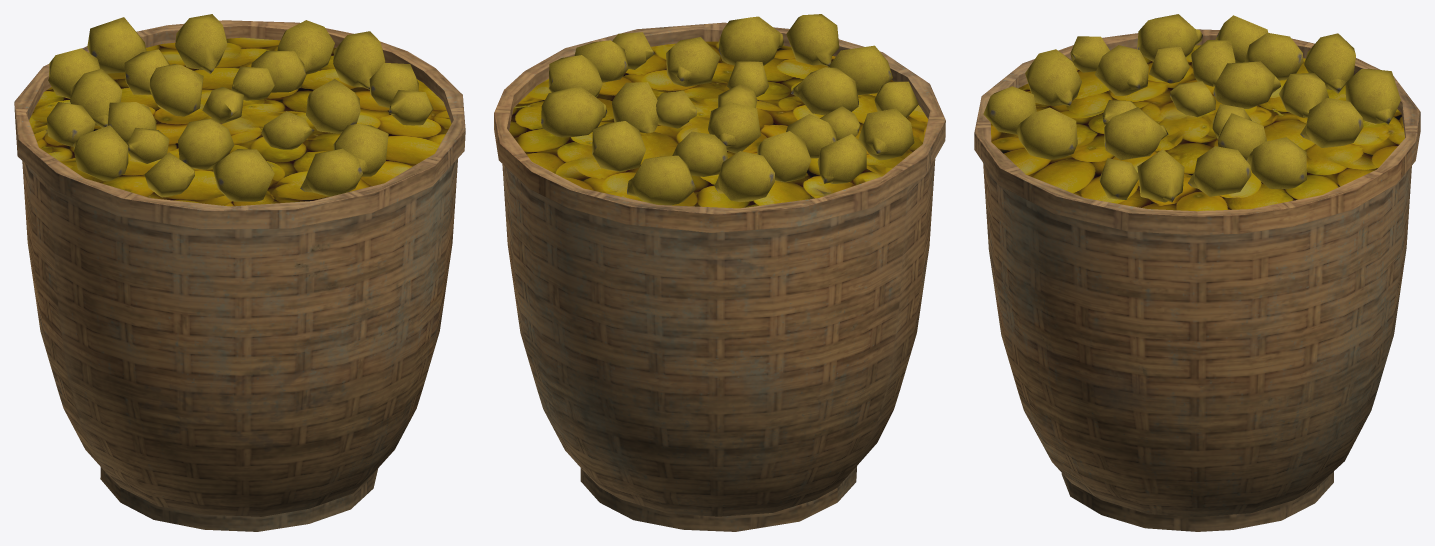
The model's file is SM_basket_lemons_01.fbx.
The picture shows the model from 3 angles, left to right: view 1: azimuth 30°, elevation 25°; view 2: azimuth 150°, elevation 25°; view 3: azimuth 270°, elevation 25°; orthographic projection.
Parts seen in each view (by area): view 1: SM_basket_lemons_01_LOD0; view 2: SM_basket_lemons_01_LOD0; view 3: SM_basket_lemons_01_LOD0.
Part boxes in pixels (<box>): SM_basket_lemons_01_LOD0: <box>14,14,465,531</box>; SM_basket_lemons_01_LOD0: <box>494,14,945,531</box>; SM_basket_lemons_01_LOD0: <box>974,14,1420,531</box>.
Bounding box in the file's own units: 64.58 × 64.73 × 62.9.
3 materials, 3 textured.
